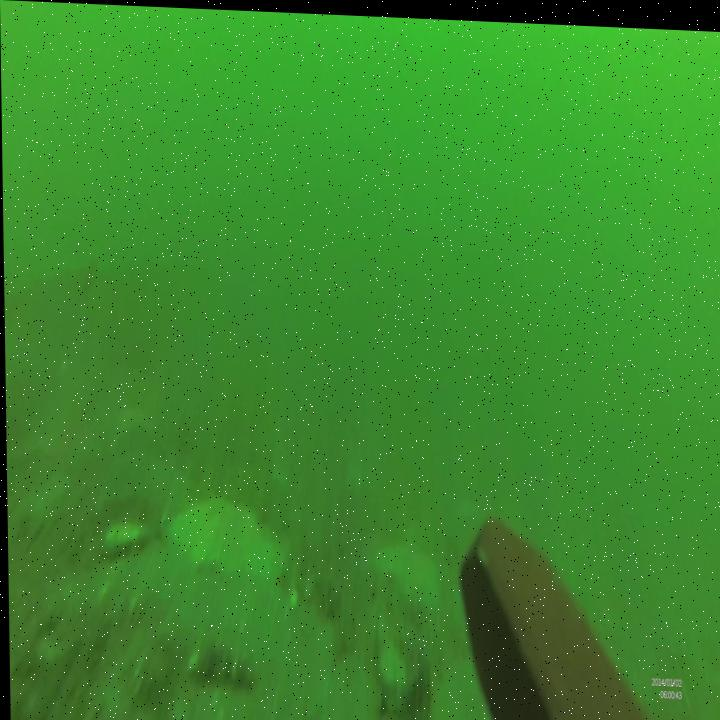starfish: (161, 480, 290, 585), (373, 533, 453, 611)
